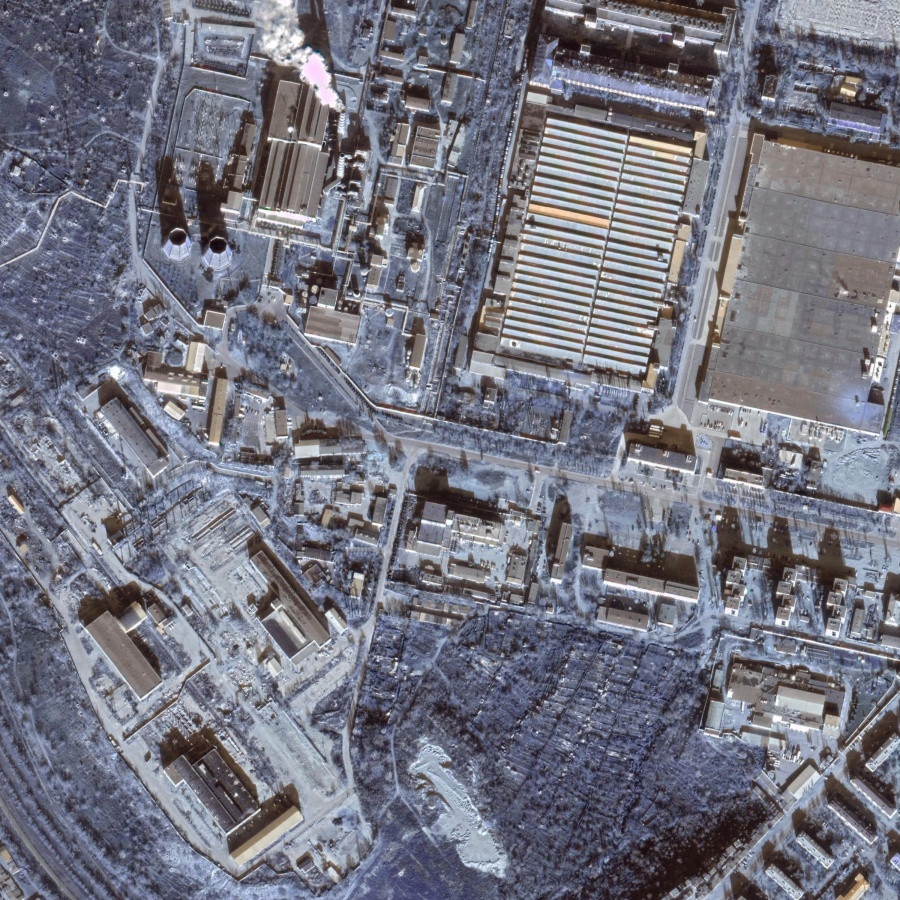PowerPlant: (149, 21, 372, 282)
